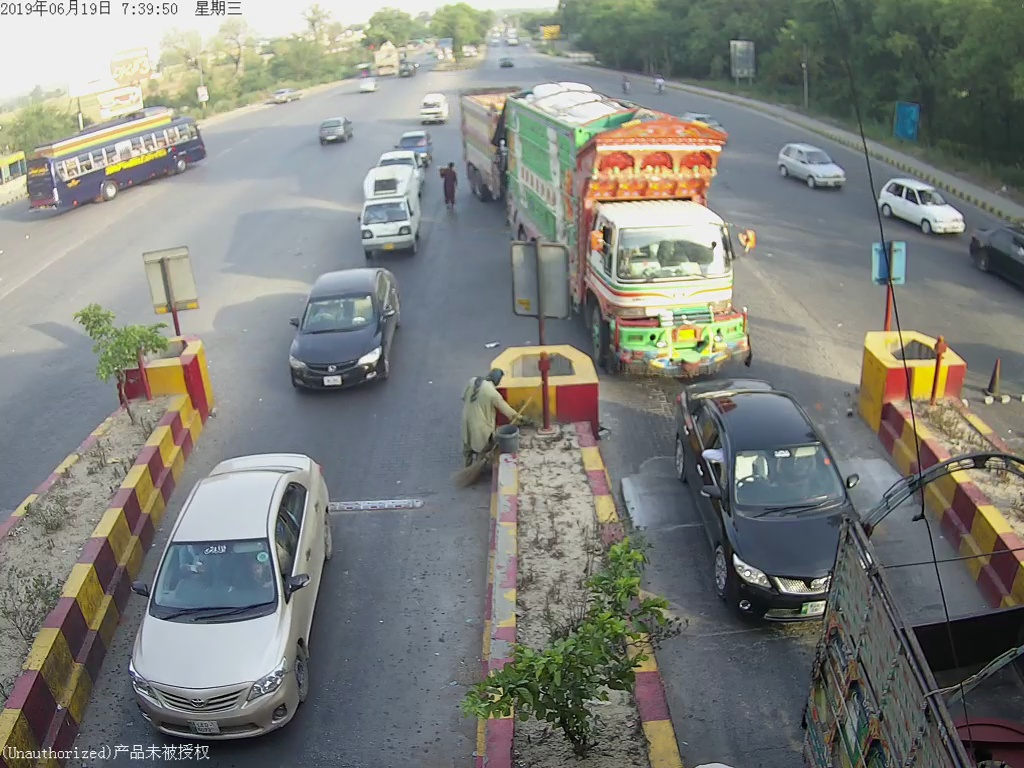Cat-1: (123, 452, 343, 728), (673, 386, 817, 632), (280, 266, 412, 401), (353, 162, 426, 264)
Cat-4: (497, 83, 756, 381)
